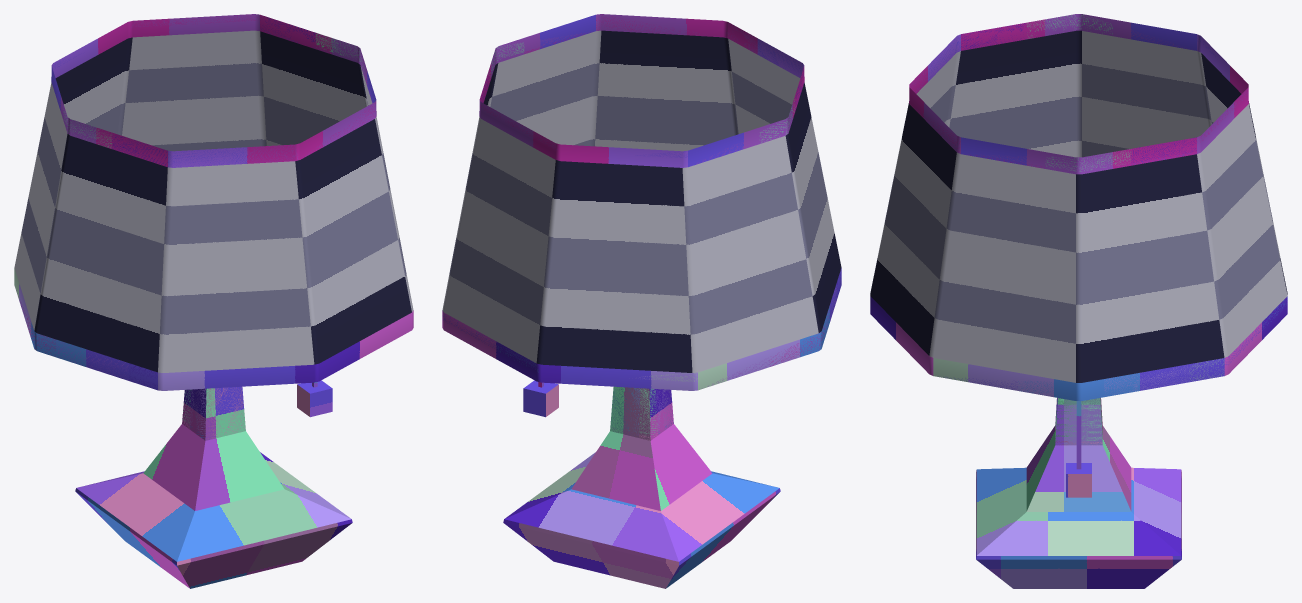
File: rmk_mnc_lamp_jwl.dae
3 views of the same model, side by side, from view 1: azimuth 30°, elevation 25°; view 2: azimuth 150°, elevation 25°; view 3: azimuth 270°, elevation 25° (orthographic).
Visible parts, largest first — view 1: rmk_mnc_lamp_jwl; view 2: rmk_mnc_lamp_jwl; view 3: rmk_mnc_lamp_jwl.
Part boxes in pixels (x1,y1,x2,y2): rmk_mnc_lamp_jwl: [14, 14, 413, 588]; rmk_mnc_lamp_jwl: [442, 14, 841, 588]; rmk_mnc_lamp_jwl: [870, 14, 1287, 588].
Size of the model in its own units: 25.45 by 32 by 25.45.
Materials: 2 (2 with a texture image).
